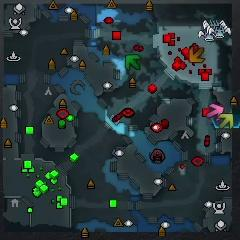x1: (205, 104, 224, 119)
x2: (219, 113, 235, 129)
x4: (125, 55, 140, 70)
x5: (188, 47, 205, 63)
